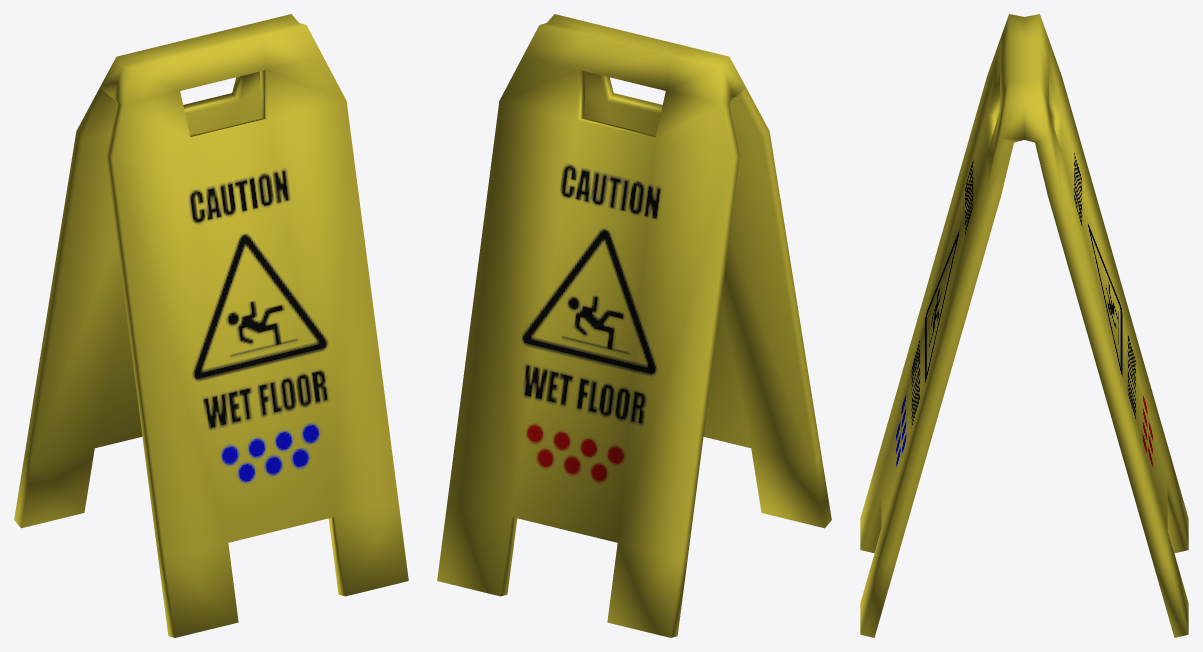
Rendered from caution.obj.
3 views of the same model, side by side, from view 1: azimuth 30°, elevation 25°; view 2: azimuth 150°, elevation 25°; view 3: azimuth 270°, elevation 25° (orthographic).
Size of the model in its own units: 0.8369 by 1.76 by 1.
1 material, 1 textured.
